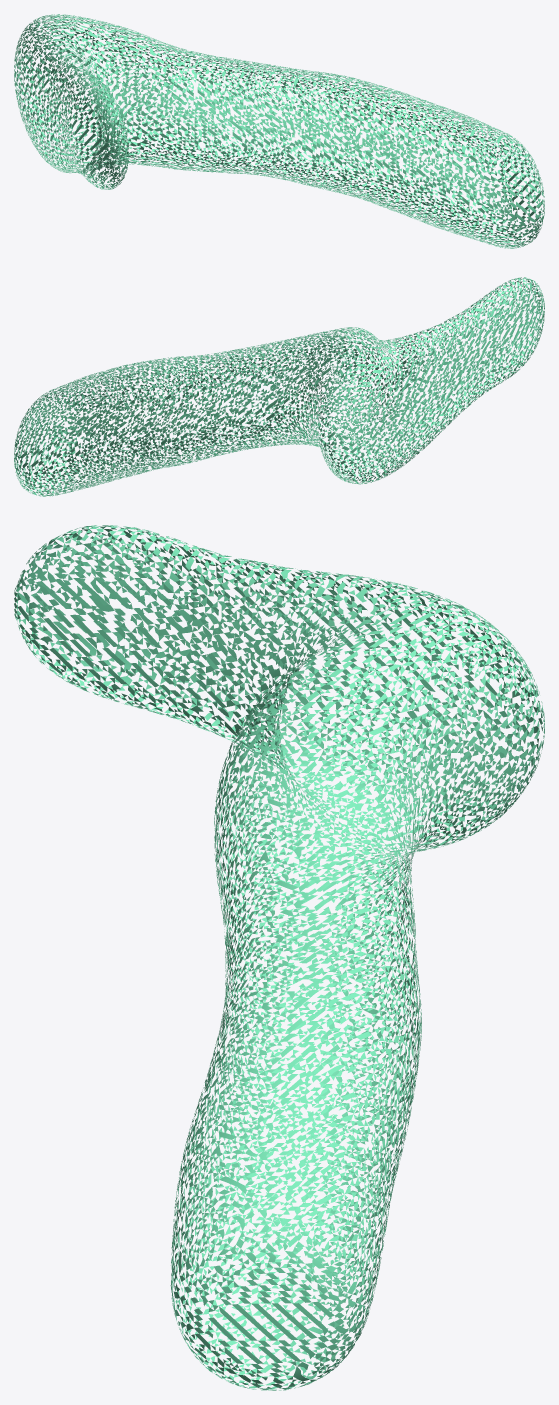
File: healthy.glb
3 views of the same model, one above another, from view 1: azimuth 30°, elevation 25°; view 2: azimuth 150°, elevation 25°; view 3: azimuth 270°, elevation 25° (orthographic). The views are drawn at different scales.
Bounding box in the file's own units: 101 × 60.07 × 58.13.
